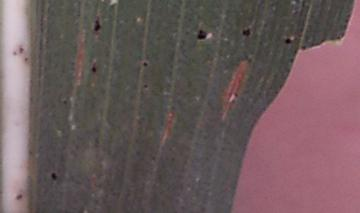tarspot: (92, 9, 104, 40), (239, 23, 255, 42), (193, 26, 209, 43), (89, 55, 99, 76), (283, 32, 295, 47), (48, 170, 59, 183), (140, 59, 151, 69), (141, 81, 150, 93), (14, 192, 25, 201), (62, 98, 69, 106)
